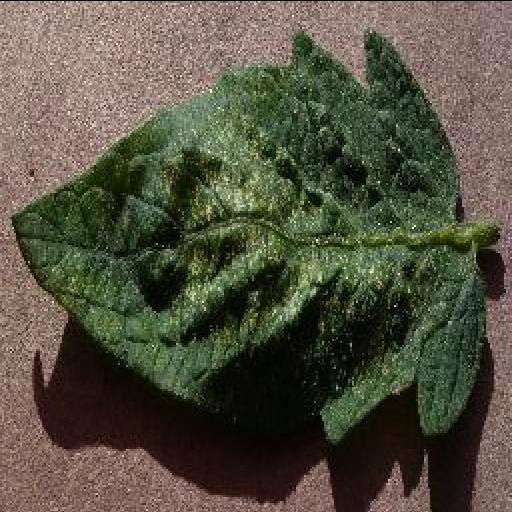disease_tomato: (8, 28, 486, 440)
